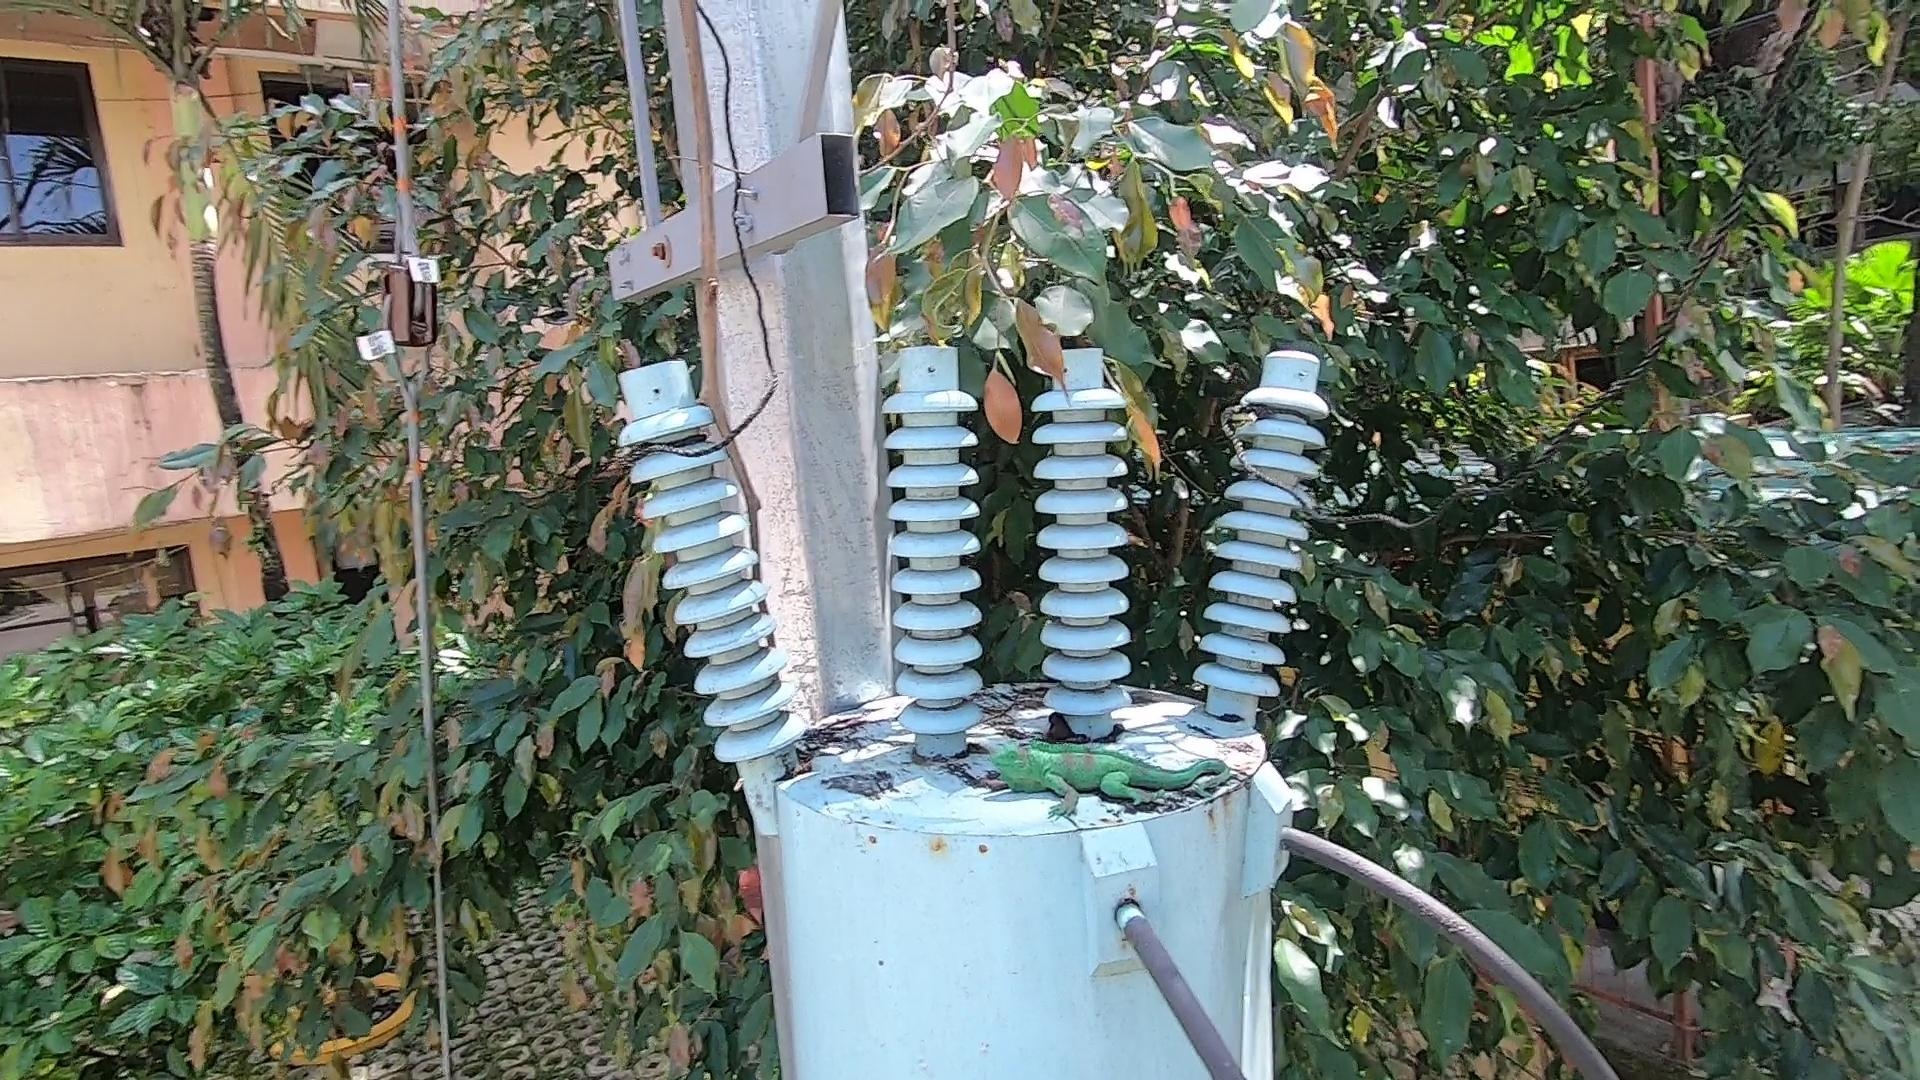branch with leaves: (967, 239, 1201, 477)
leaf: (1040, 703, 1120, 760), (774, 746, 827, 796)
tree branch: (651, 3, 822, 684)
